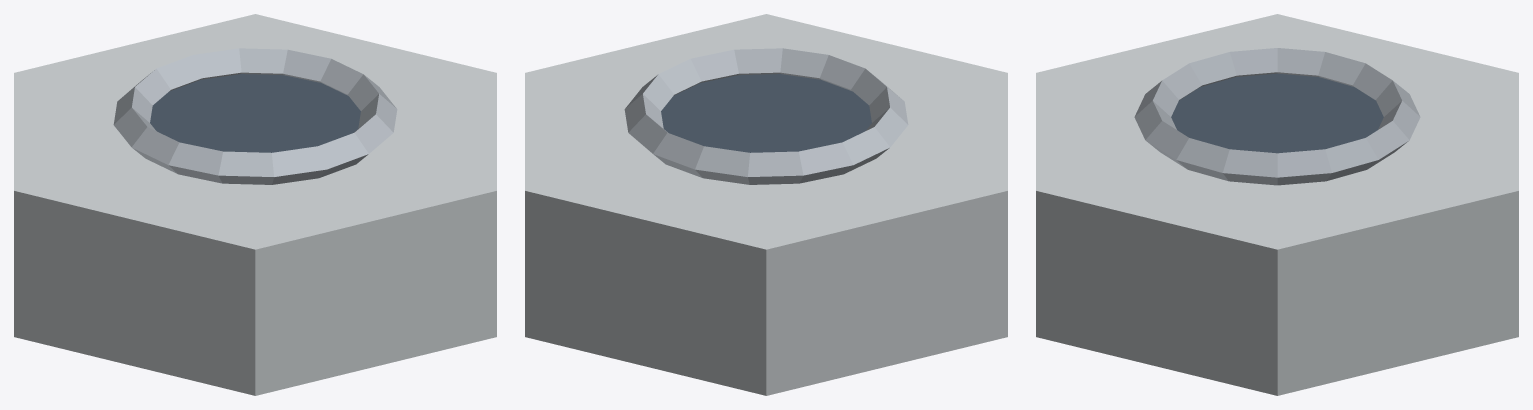
Rendered from objeto_tuerca.glb.
The picture shows the model from 3 angles, left to right: view 1: azimuth 30°, elevation 25°; view 2: azimuth 150°, elevation 25°; view 3: azimuth 270°, elevation 25°; orthographic projection.
Visible parts, largest first — view 1: objeto_tuerca; view 2: objeto_tuerca; view 3: objeto_tuerca.
Part boxes in pixels (x1=…): objeto_tuerca: x1=14, y1=14, x2=496, y2=395; objeto_tuerca: x1=525, y1=14, x2=1007, y2=395; objeto_tuerca: x1=1036, y1=14, x2=1518, y2=395.
Bounding box in the file's own units: 0.76 × 0.267 × 0.6582.
